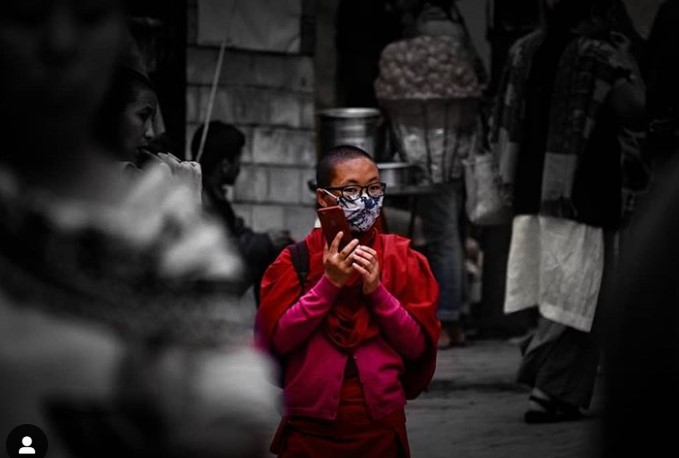face_no_mask: (99, 72, 155, 161)
face_with_mask: (314, 144, 387, 236)
